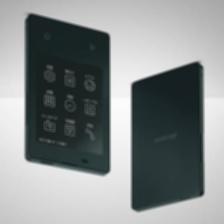phone: (21, 10, 113, 179), (128, 59, 208, 217)
